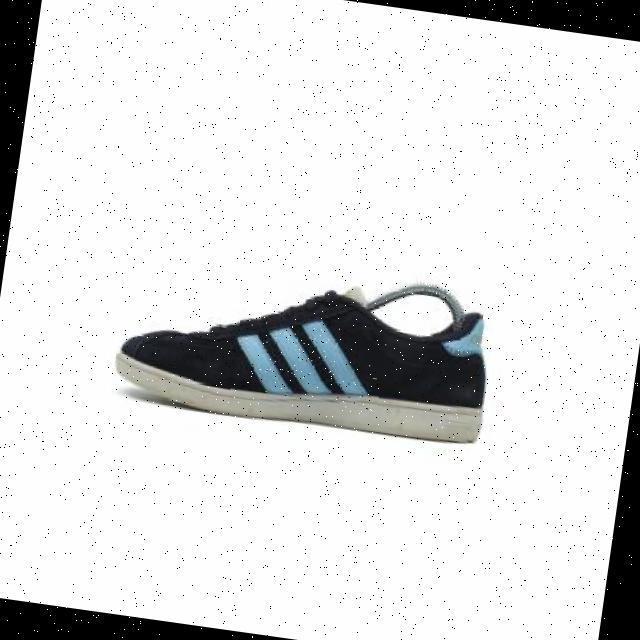Adidas: (230, 307, 389, 415)
